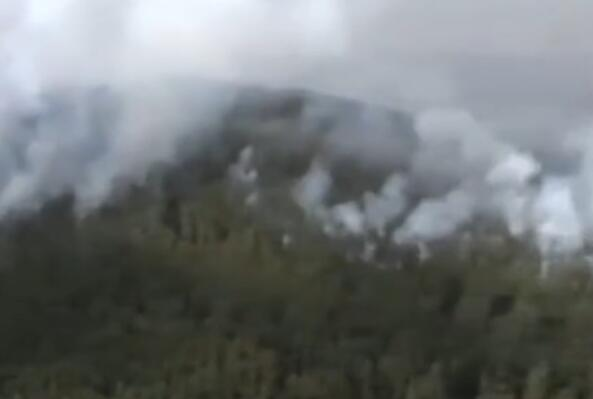smoke: (1, 0, 592, 255)
